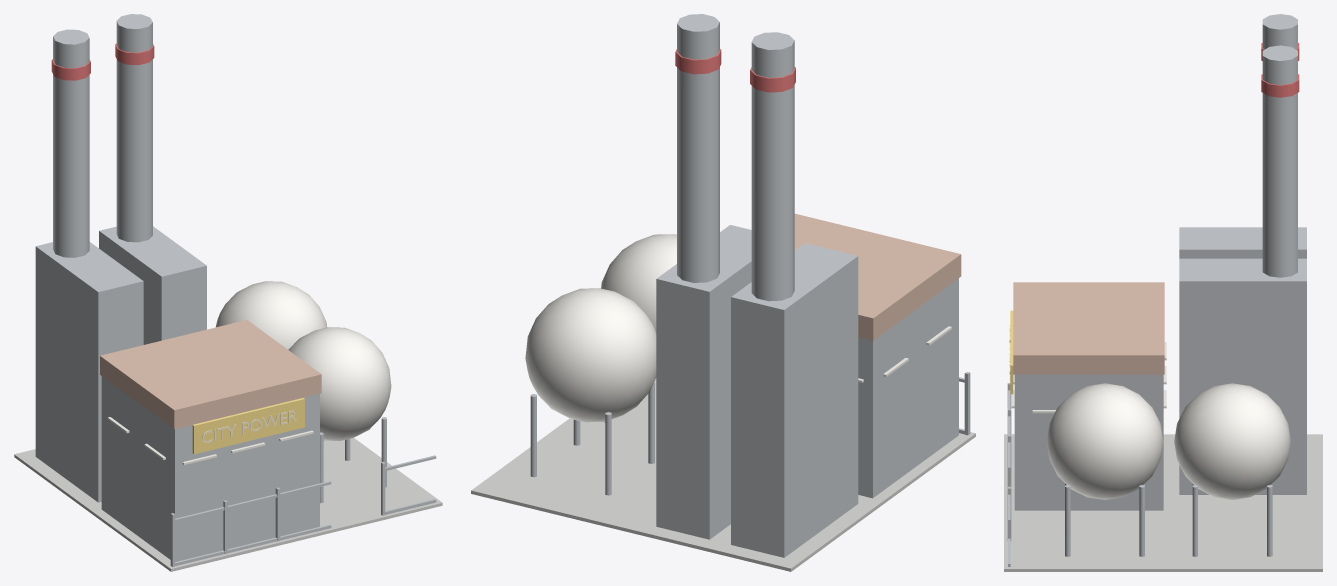
Rendered from gas_plant.glb.
3 views of the same model, side by side, from view 1: azimuth 30°, elevation 25°; view 2: azimuth 150°, elevation 25°; view 3: azimuth 270°, elevation 25° (orthographic). The views are drawn at different scales.
Visible parts, largest first — view 1: gas_plant; view 2: gas_plant; view 3: gas_plant.
Part boxes in pixels (<box>): gas_plant: <box>14,14,442,571</box>; gas_plant: <box>471,14,975,571</box>; gas_plant: <box>1004,14,1322,571</box>.
Bounding box in the file's own units: 12 × 18 × 12.
